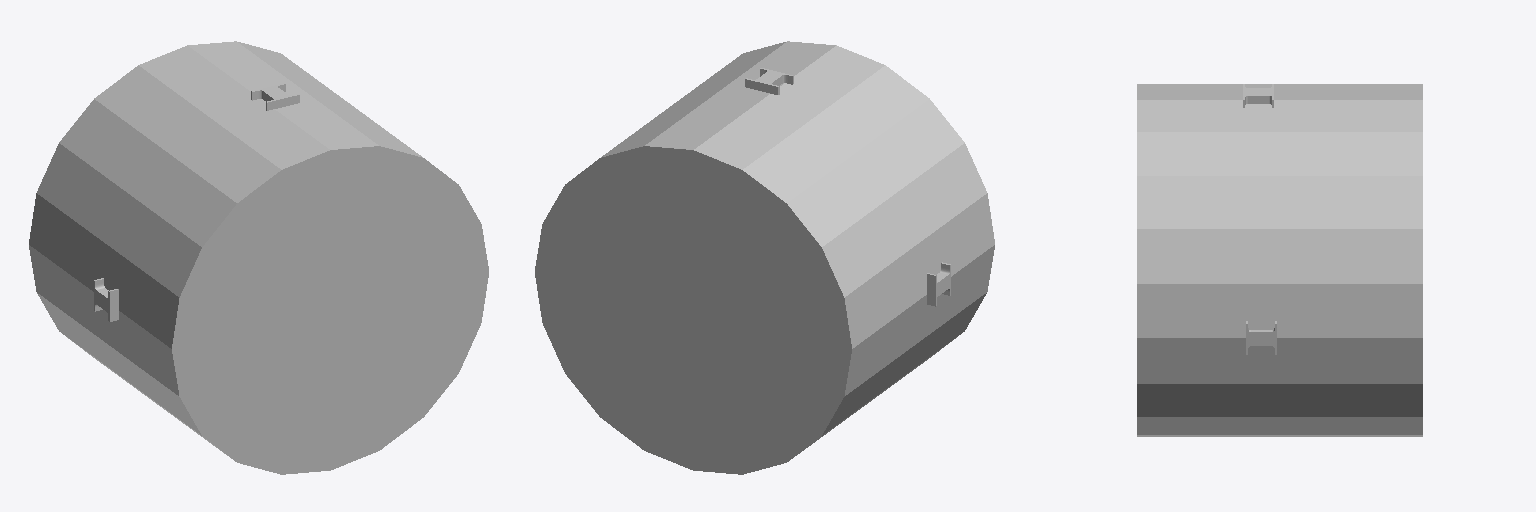
The model's file is Inside the wire.obj.
The picture shows the model from 3 angles: view 1: azimuth 30°, elevation 25°; view 2: azimuth 150°, elevation 25°; view 3: azimuth 270°, elevation 25°; orthographic projection.
Visible parts, largest first — view 1: obj_0; view 2: obj_0; view 3: obj_0.
Part boxes in pixels (x1,y1,x2,y2): obj_0: (29,41,488,474); obj_0: (535,41,994,474); obj_0: (1137,84,1422,436).
Bounding box in the file's own units: 133 × 130 × 100.